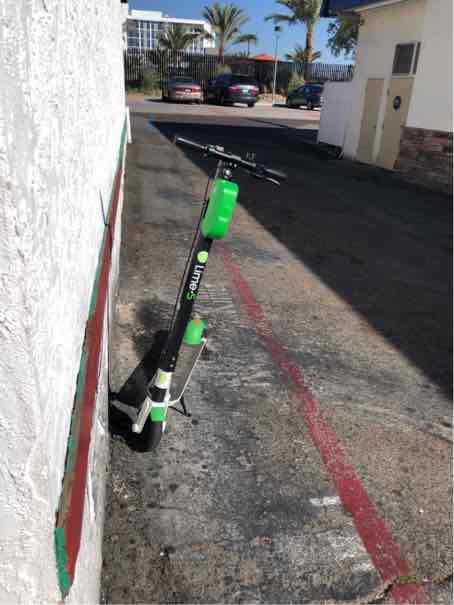scooter: (109, 131, 296, 460)
